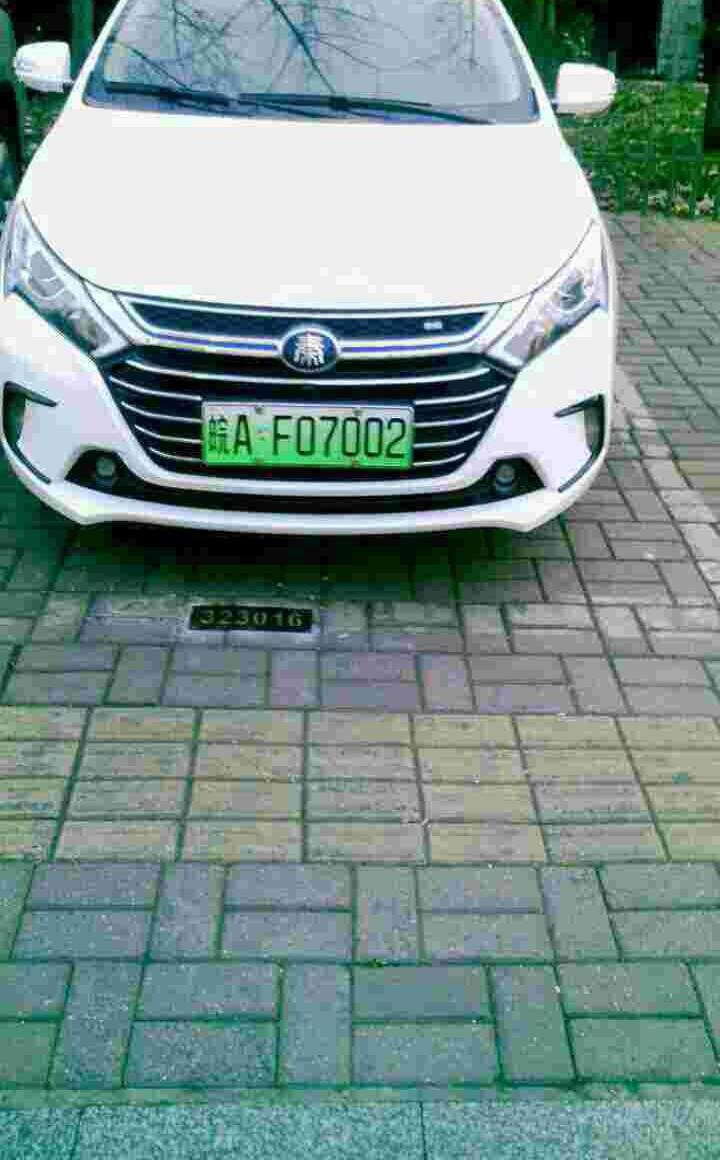car_green: (201, 397, 417, 470)
